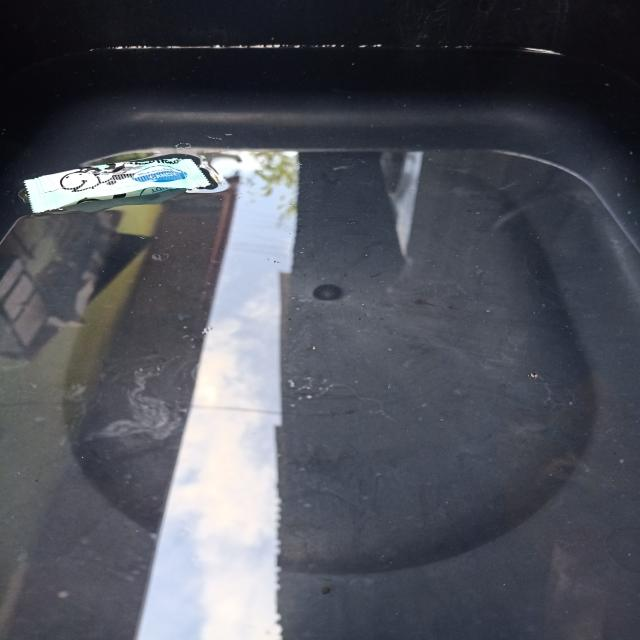Plastic Wrapper: (13, 144, 236, 222)
